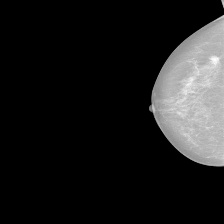Mass_1: (0, 155, 19, 172)
